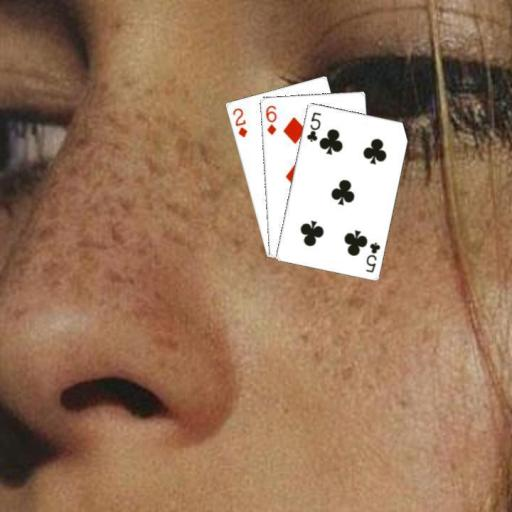card-corner: (229, 104, 249, 138), (363, 239, 382, 274), (304, 108, 322, 143), (262, 102, 278, 136)
